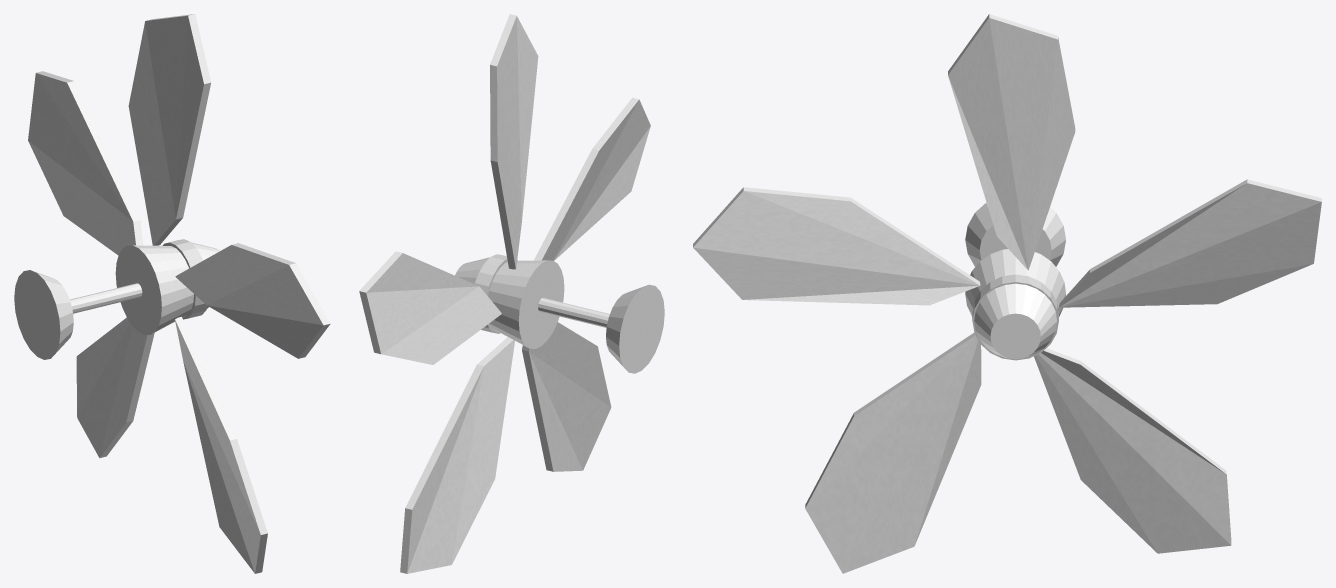
The model's file is patiotropicalfan.obj.
3 views of the same model, side by side, from view 1: azimuth 30°, elevation 25°; view 2: azimuth 150°, elevation 25°; view 3: azimuth 270°, elevation 25° (orthographic). The views are drawn at different scales.
Visible parts, largest first — view 1: Rotor, Metal, Base, Trim; view 2: Rotor, Metal, Base, Trim, Light0; view 3: Rotor, Light0, Base, Metal, Trim.
Part boxes in pixels (x1,y1,x2,y2): Rotor: [28, 14, 330, 573]; Metal: [70, 245, 193, 334]; Base: [14, 270, 73, 359]; Trim: [162, 239, 207, 319]; Rotor: [359, 14, 650, 573]; Metal: [488, 260, 609, 348]; Base: [606, 284, 664, 373]; Trim: [474, 254, 517, 333]; Light0: [455, 257, 489, 283]; Rotor: [693, 14, 1321, 573]; Light0: [974, 283, 1056, 359]; Base: [965, 202, 1065, 266]; Metal: [965, 249, 1065, 316]; Trim: [972, 274, 1058, 360].
Bounding box in the file's own units: 0.635 × 1.7 × 1.74.
